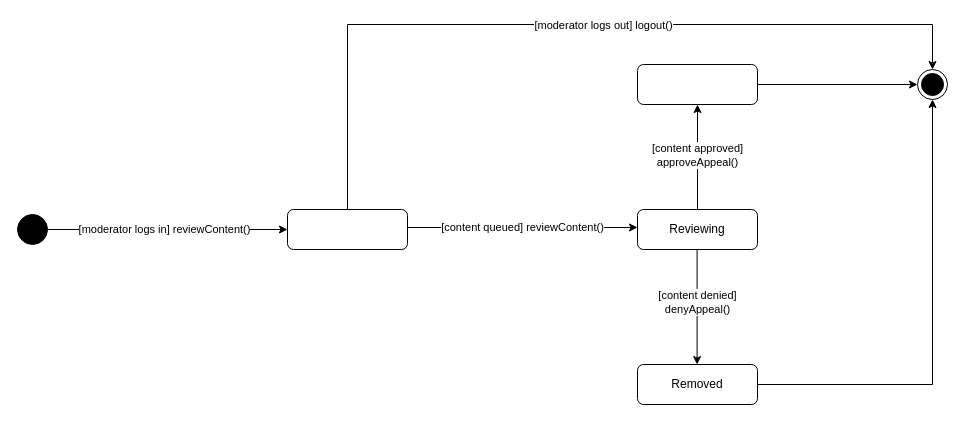
Image size: 965x422. Some labels were removed from this diagram. The centre of each missing label's shape, as x and y in pixels:
"Approved" belongs at [697,84].
"Idle" belongs at [347,229].
